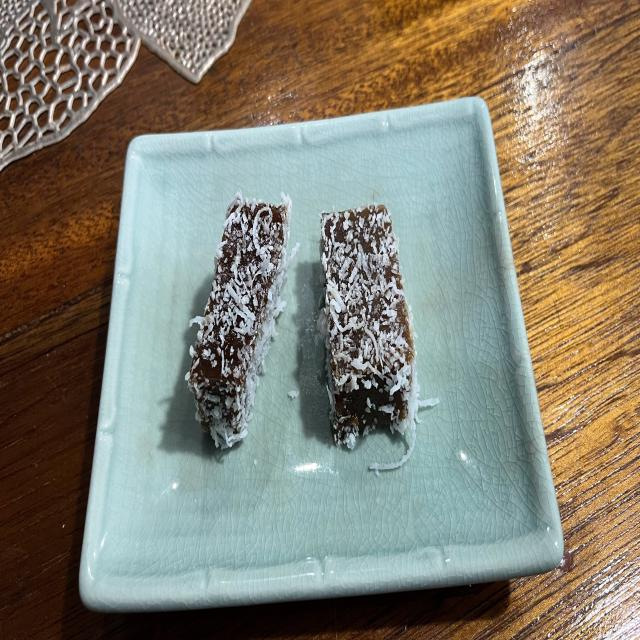kaswi: (185, 191, 300, 449), (318, 204, 419, 473)
